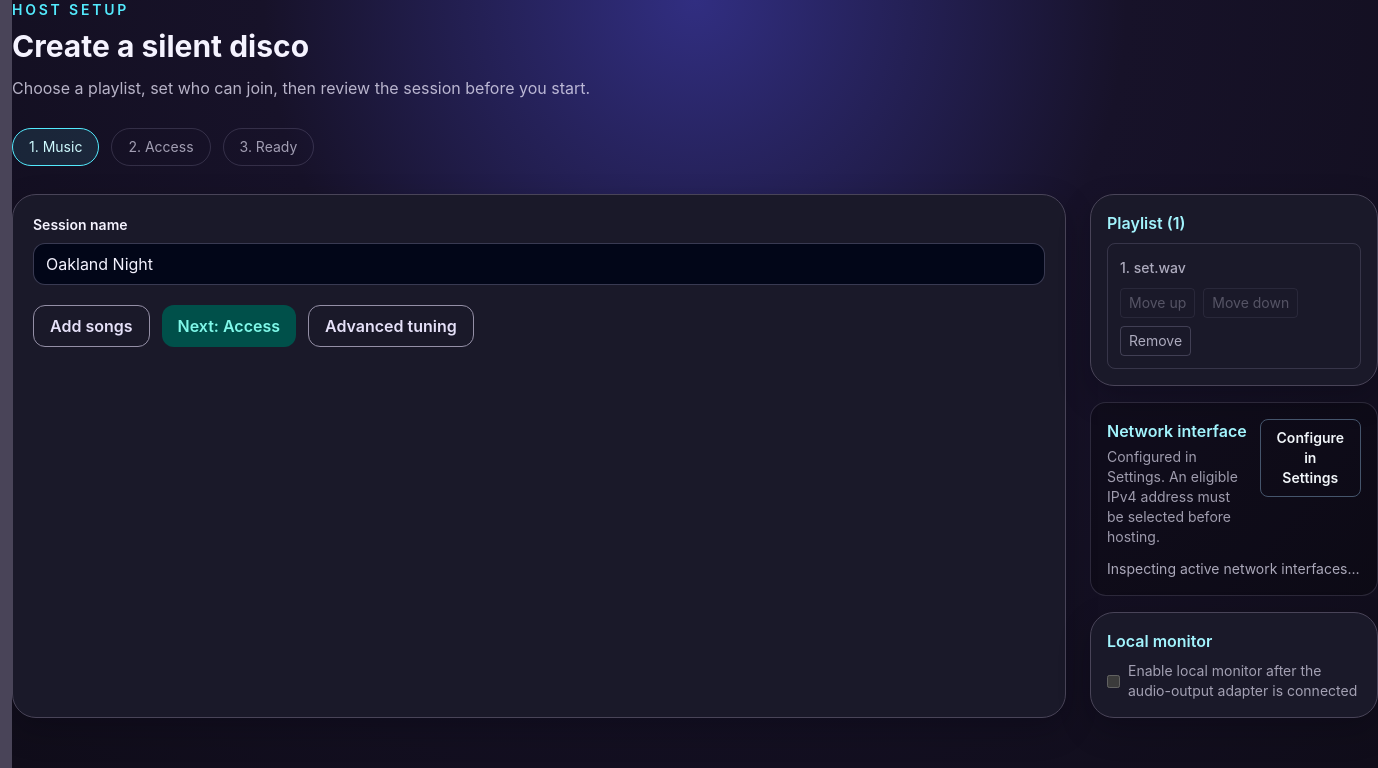
HostSetupScreen › keeps create pending until a newer Rust snapshot is observed
What coordinates should you click on to do the following:
click the button "Next: Access"
I would click on:
 (229, 326)
Its box is [162,305,296,347].
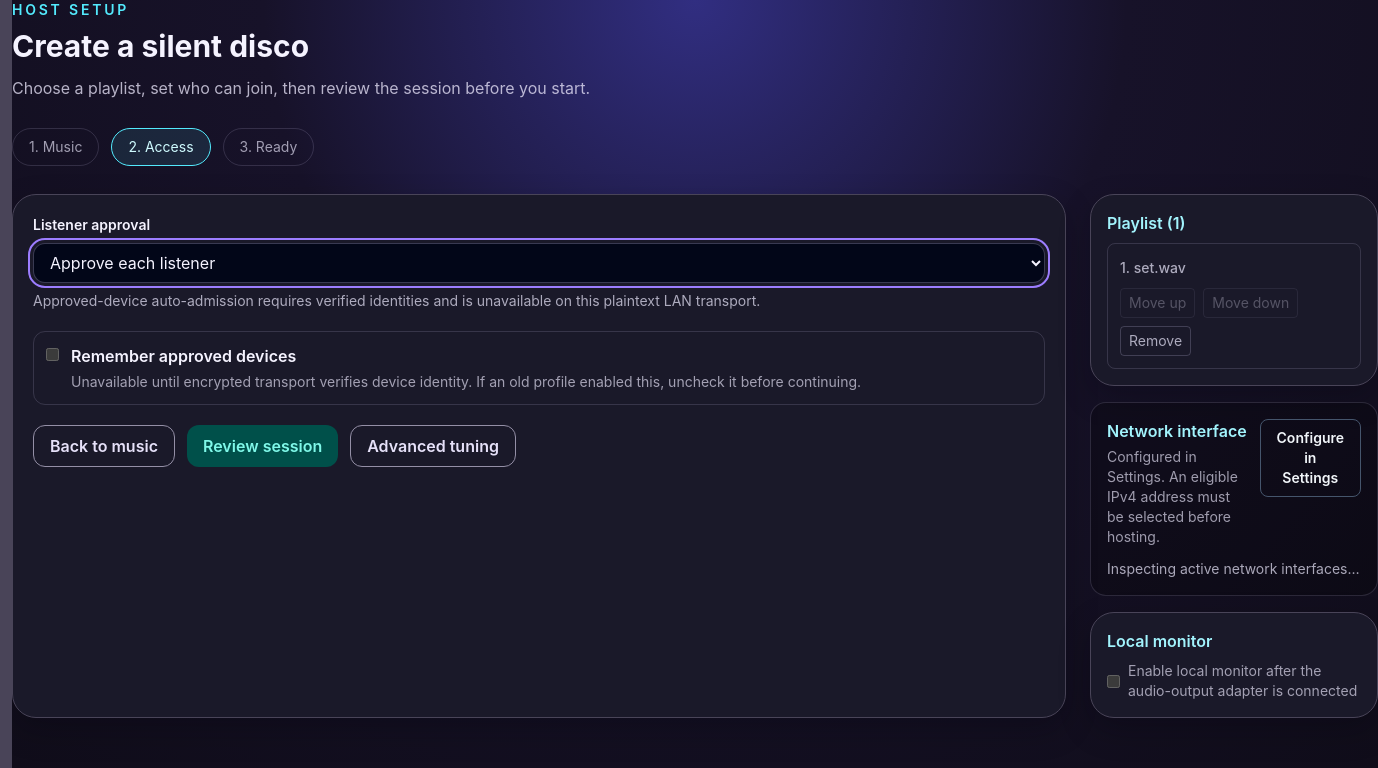
What coordinates should you click on to do the following:
click the button "Review session"
I would click on:
 (263, 446)
Its box is [187,425,338,467].
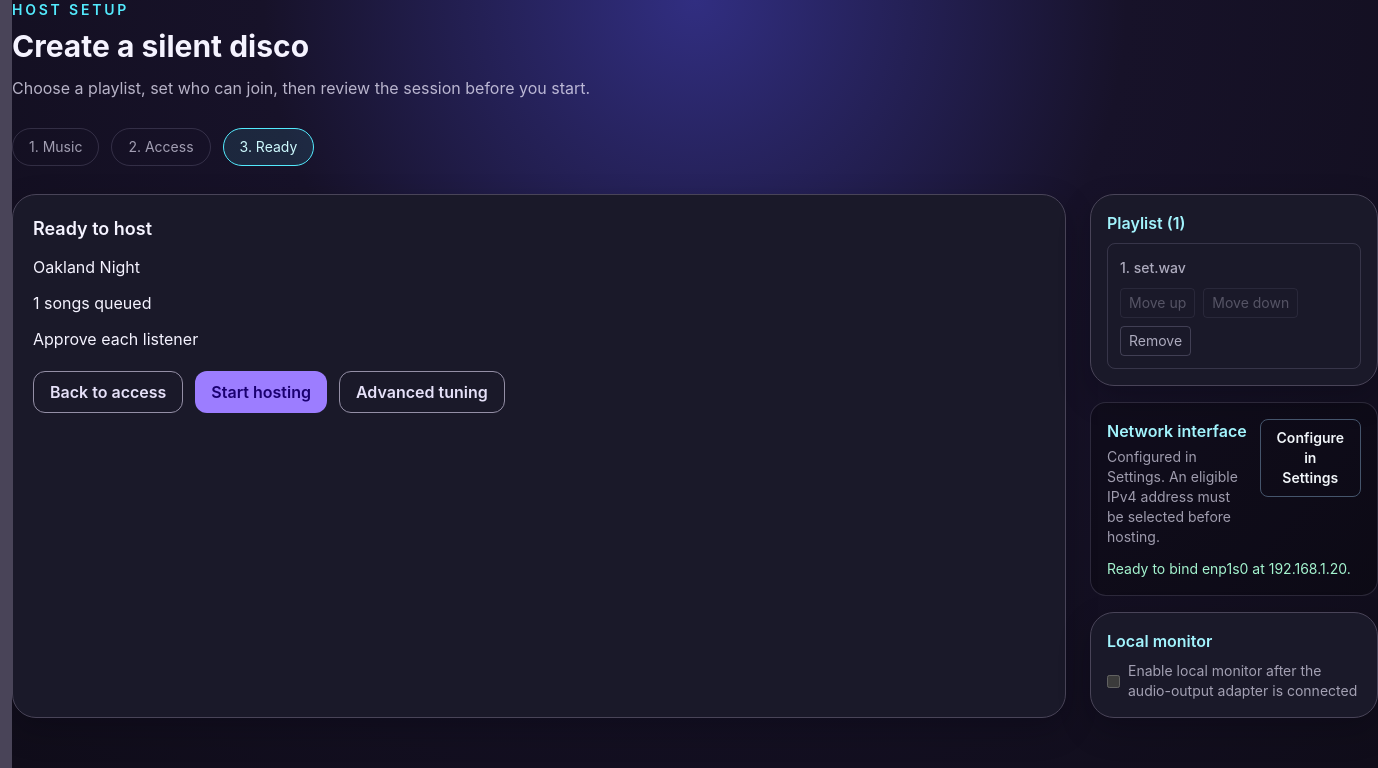
What coordinates should you click on to do the following:
click the button "Start hosting"
I would click on:
 (261, 392)
Its box is [195,371,327,413].
(page scrolled)
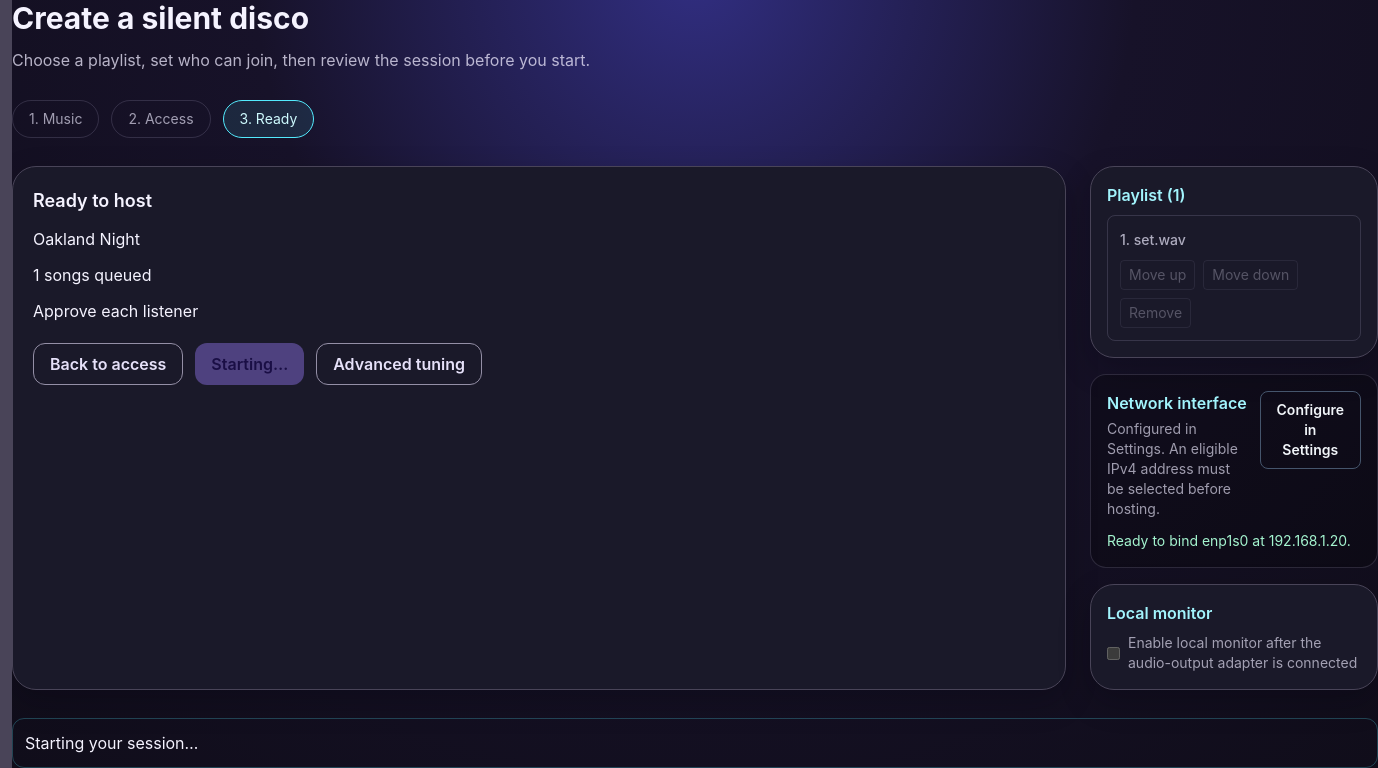
Now the message reads "Starting your session…", box [25,733,198,753]
